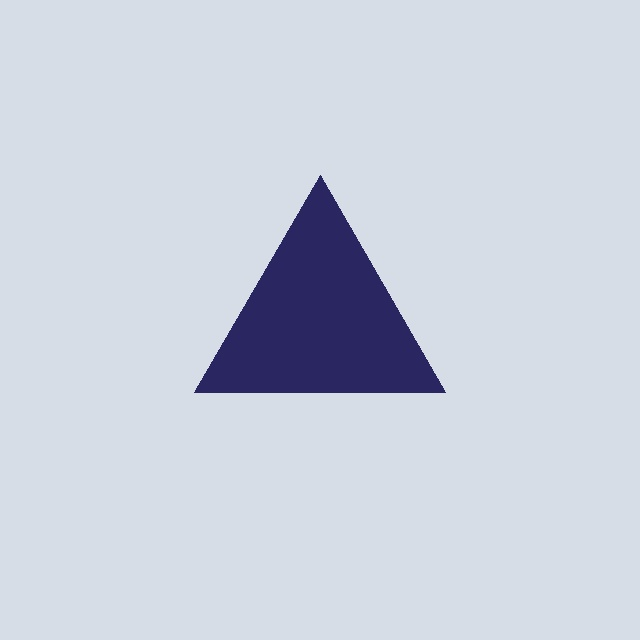triangle: (194, 175, 446, 393)
